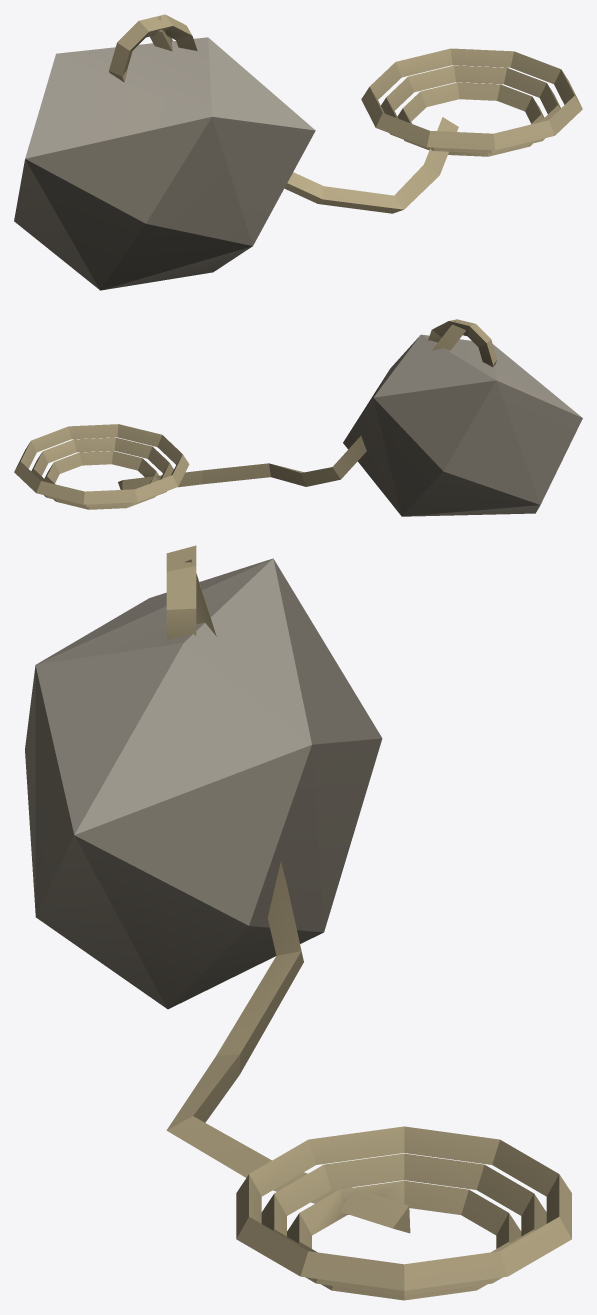
Rendered from anchorstone.glb.
3 renders of one model, top to bottom at view 1: azimuth 30°, elevation 25°; view 2: azimuth 150°, elevation 25°; view 3: azimuth 270°, elevation 25°, orthographic. The views are drawn at different scales.
Visible parts, largest first — view 1: base; view 2: base; view 3: base.
Part boxes in pixels (x1=…): base: x1=14, y1=14, x2=582, y2=290; base: x1=14, y1=319, x2=582, y2=516; base: x1=25, y1=545, x2=571, y2=1300.
Bounding box in the file's own units: 0.5175 × 0.2076 × 0.2482.
